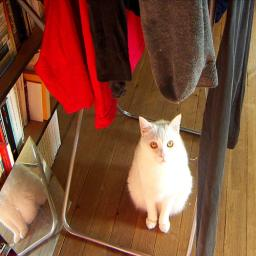catnose: (159, 150, 168, 160)
